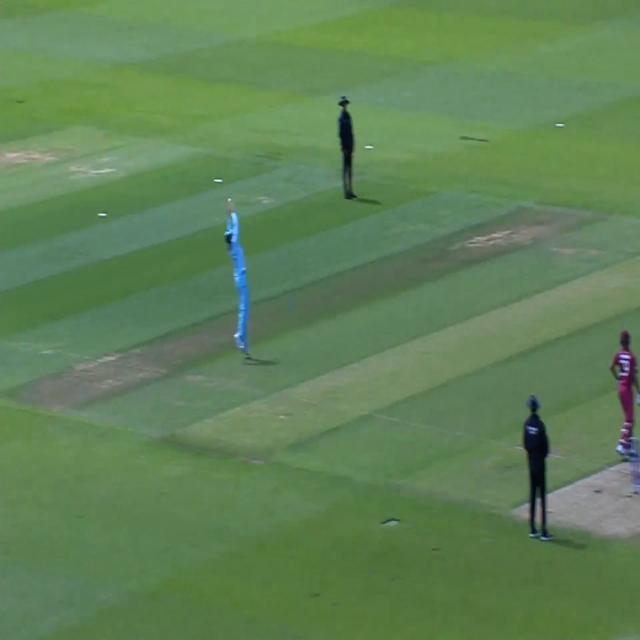ball: (226, 192, 234, 208)
